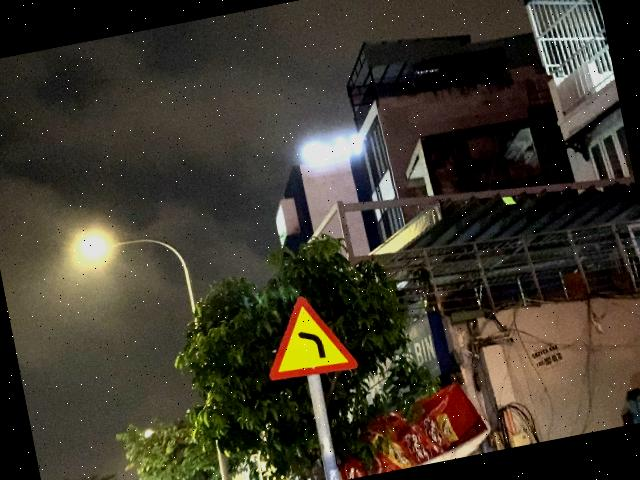cho-ngoat-nguy-hiem-ben-trai: (255, 288, 359, 386)
